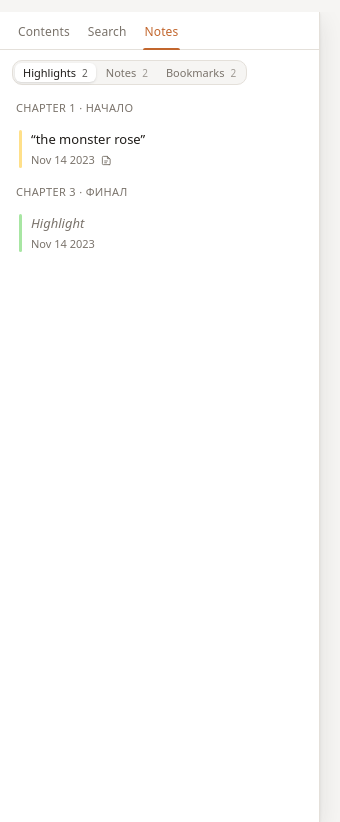
Scenario: AnnotationsPanel › shows quote, note text and a formatted date on note rows
Click the tab "Notes 2".
click(127, 73)  # box [98,63,156,82]
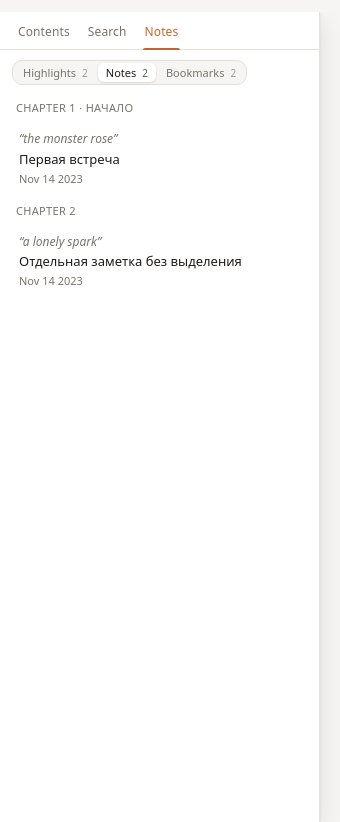
Expected: the text "Nov 14 2023" below "Chapter 1 · Начало" is shown, [19,171,83,186]
Result: the text "“a lonely spark”" is shown at [19,233,101,250]
Result: the text "Отдельная заметка без выделения" is shown at [19,252,248,270]
